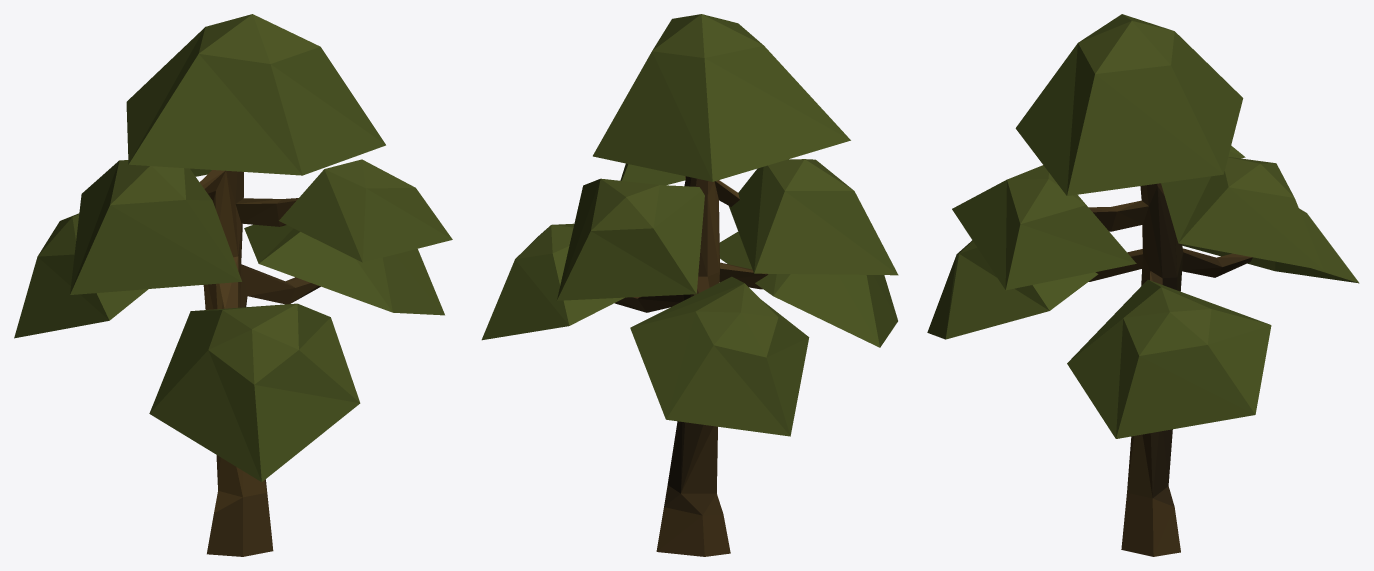
The model's file is yew.obj.
3 renders of one model, left to right at view 1: azimuth 30°, elevation 25°; view 2: azimuth 150°, elevation 25°; view 3: azimuth 270°, elevation 25°, orthographic. The views are drawn at different scales.
Parts seen in each view (by area): view 1: Object Yew tree 2026-10-17_18-11-39; view 2: Object Yew tree 2026-10-17_18-11-39; view 3: Object Yew tree 2026-10-17_18-11-39.
Part boxes in pixels (left/top/right/bottom): Object Yew tree 2026-10-17_18-11-39: left=14, top=14, right=452, bottom=556; Object Yew tree 2026-10-17_18-11-39: left=481, top=14, right=898, bottom=556; Object Yew tree 2026-10-17_18-11-39: left=927, top=14, right=1359, bottom=556.
Bounding box in the file's own units: 345 × 470 × 353.
